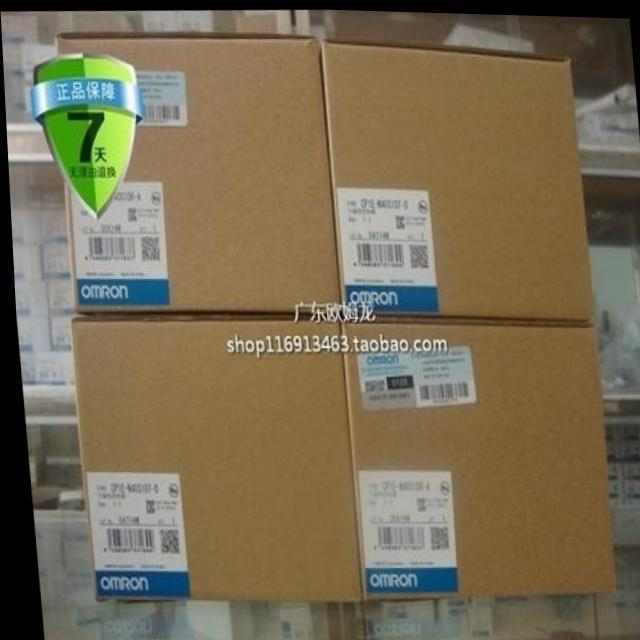box: (64, 311, 354, 601), (54, 29, 338, 313), (337, 311, 613, 601), (319, 40, 591, 320)
